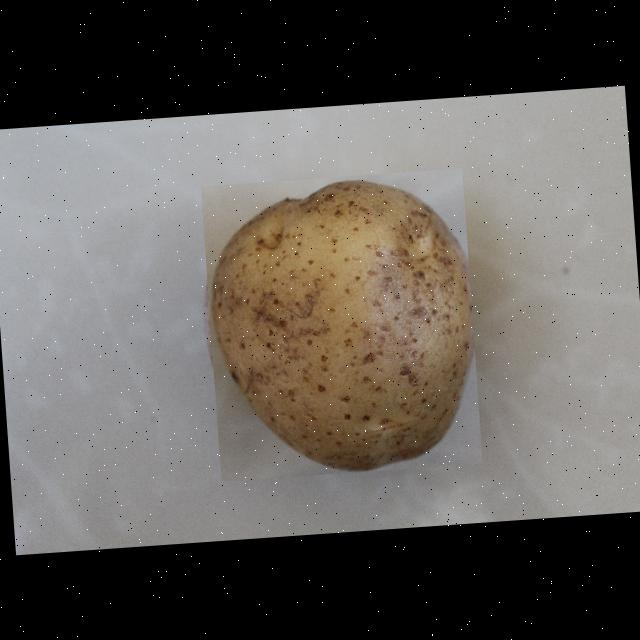Diseased-fungal potato: (200, 168, 482, 482)
